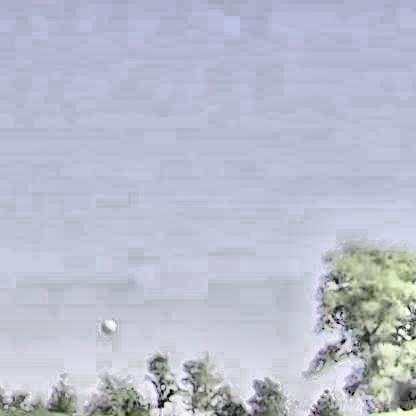golfball: (98, 314, 113, 332)
